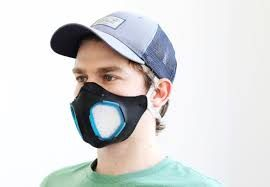with-mask: (57, 17, 173, 151)
